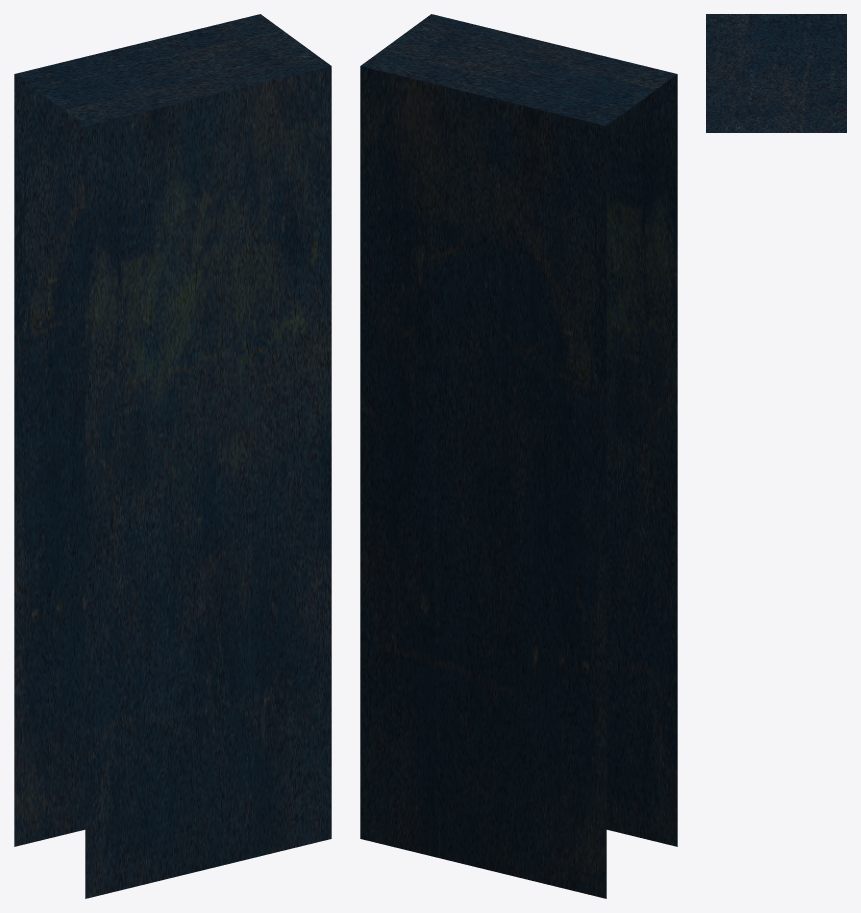
The model's file is wall.glb.
3 views of the same model, side by side, from view 1: azimuth 30°, elevation 25°; view 2: azimuth 150°, elevation 25°; view 3: azimuth 270°, elevation 25° (orthographic).
Visible parts, largest first — view 1: wand1; view 2: wand1; view 3: wand1.
Part boxes in pixels (left/top/right/bottom): wand1: left=14, top=14, right=331, bottom=898; wand1: left=360, top=14, right=677, bottom=898; wand1: left=706, top=14, right=846, bottom=132.
Bounding box in the file's own units: 1 × 3 × 0.5.
Materials: 1 (1 with a texture image).
